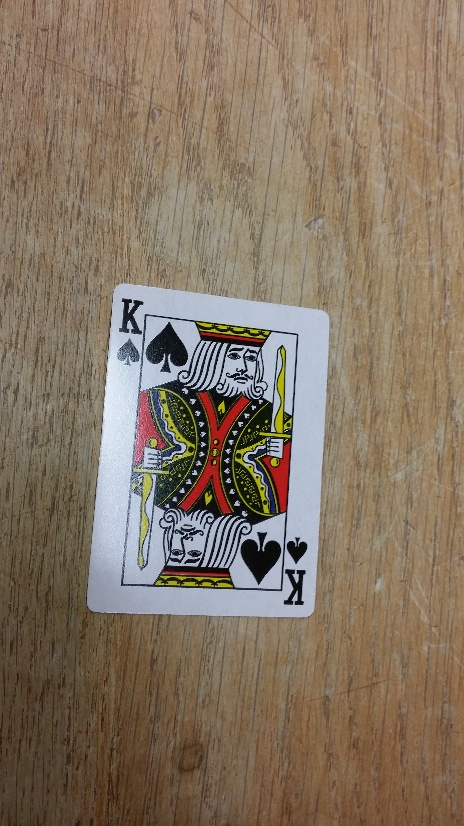Sk: (116, 292, 145, 373), (283, 532, 310, 611)
